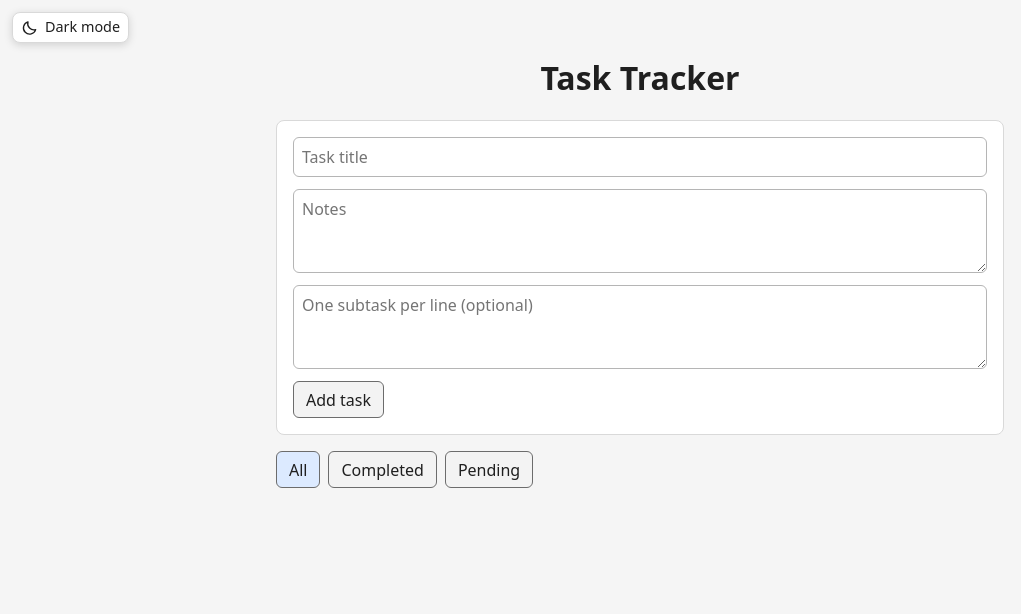
it: App › deletes a task when confirmation is accepted
Type "Remove me" into the field labelled "Task title".
click(640, 157); type("Remove me")  # box [293,137,987,177]
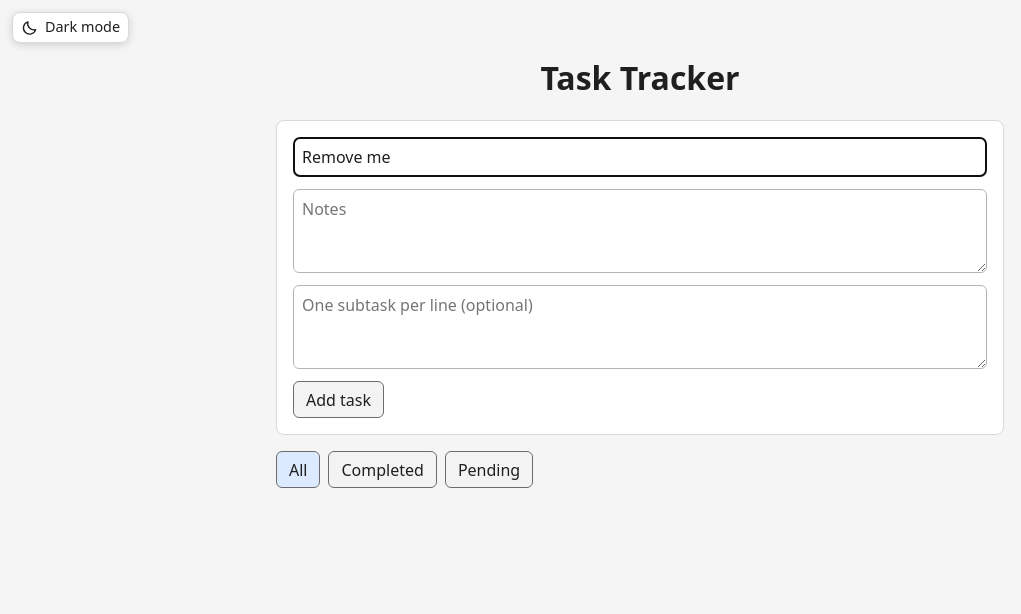
Click the button "Add task".
click(338, 400)  # box [293,381,384,418]
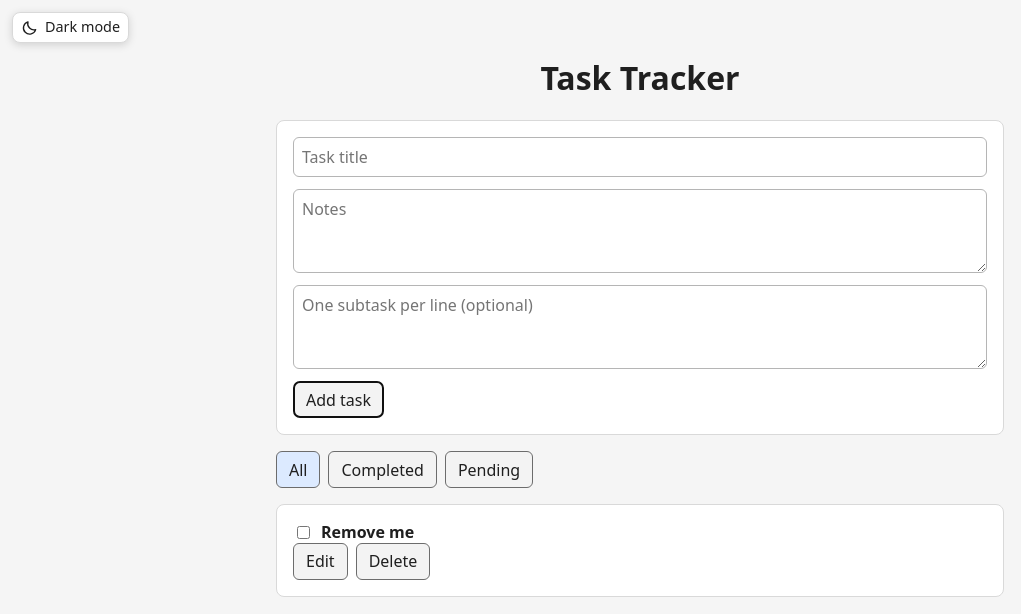
Click the button "Delete".
click(393, 561)  # box [356,543,430,580]
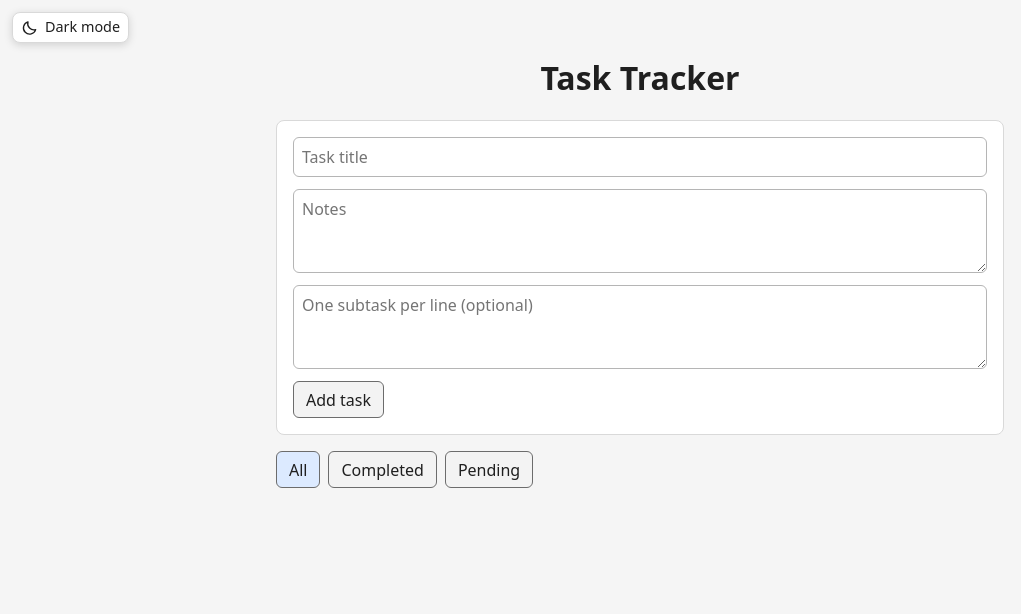
Check: the text "Remove me" is gone
